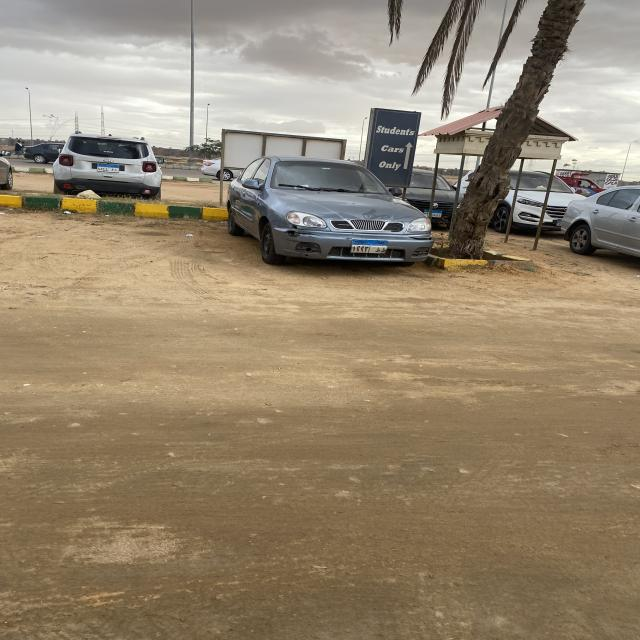License Plate: (351, 239, 387, 254), (98, 164, 119, 173), (424, 209, 442, 217)
